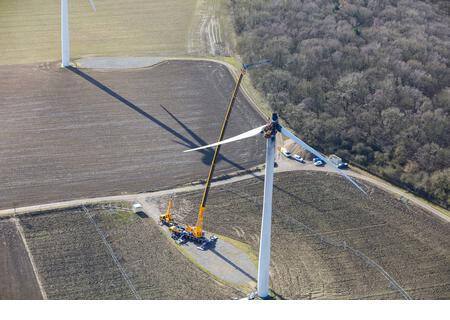faulty: (180, 110, 377, 212)
